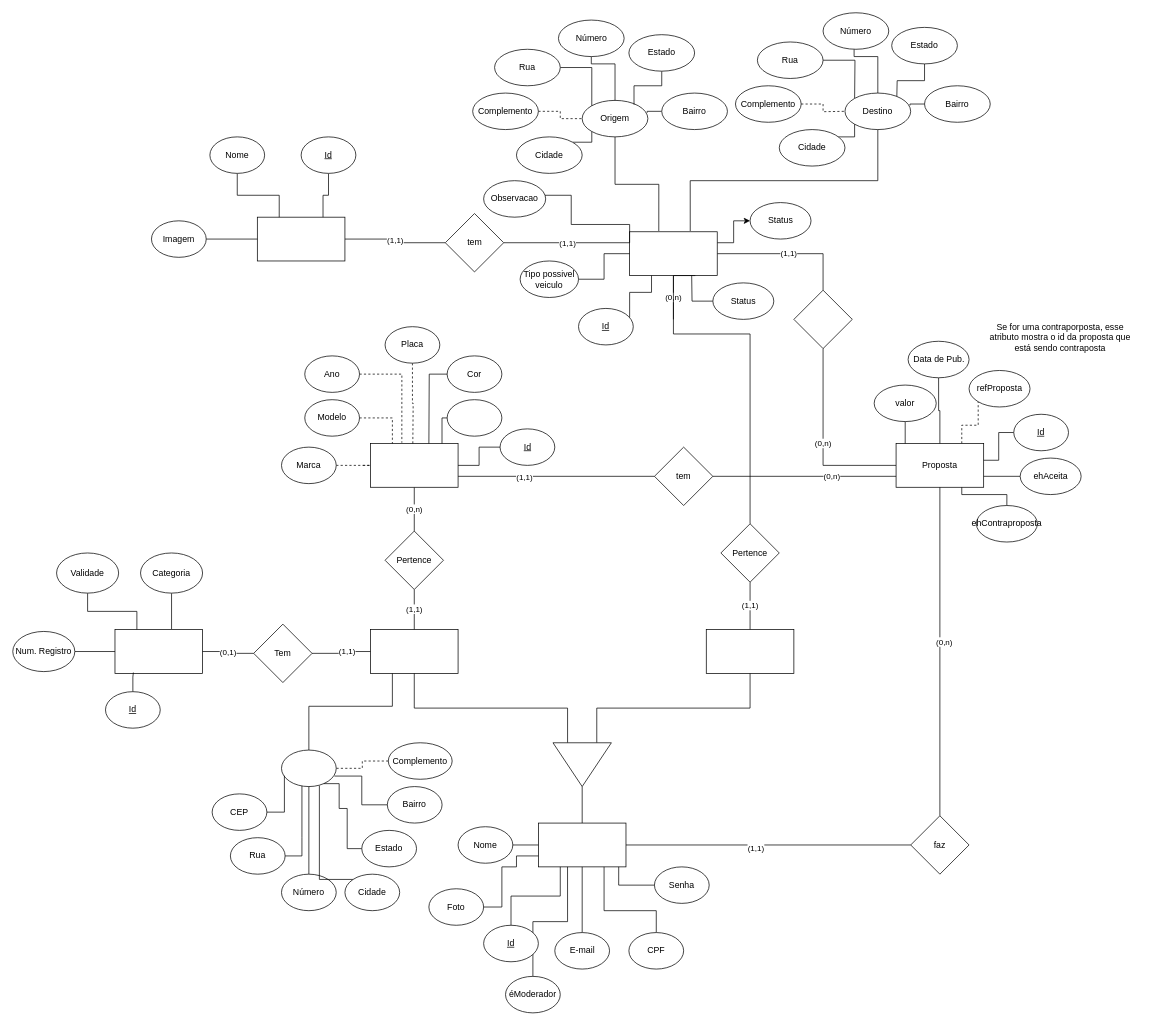
Some shapes in this 1150 by 1026 pixel diagram are drawn without their labels. The shapes that lost their labels are listed below. From the top down, each one's centre as x and y in pixels, then its label:
point 301,238: Produto
point 673,253: Pedido de Frete
point 822,319: contém
point 474,417: Tipo
point 414,465: Veiculo
point 158,651: CarteiraMotorista
point 414,651: Freteiro
point 750,651: Cliente
point 308,768: Endereço
point 582,844: Usuario
